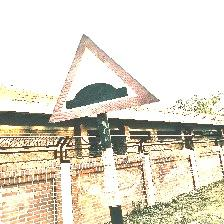Speed-breaker: (50, 35, 157, 119)
